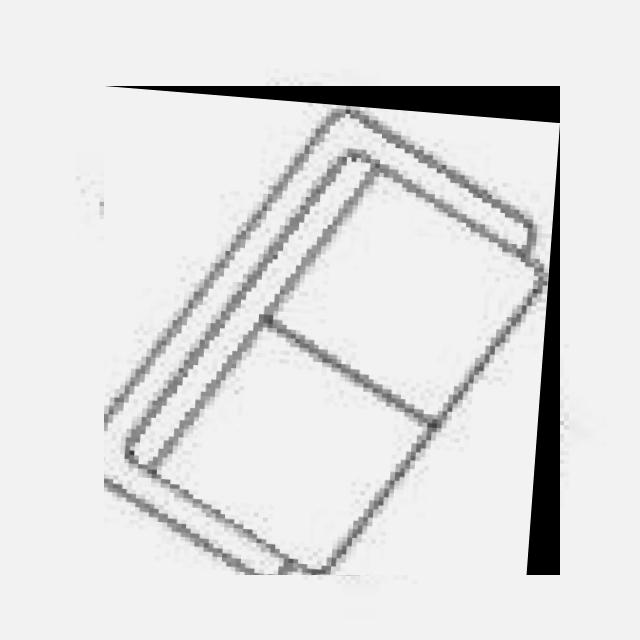sofa: (104, 86, 560, 575)
